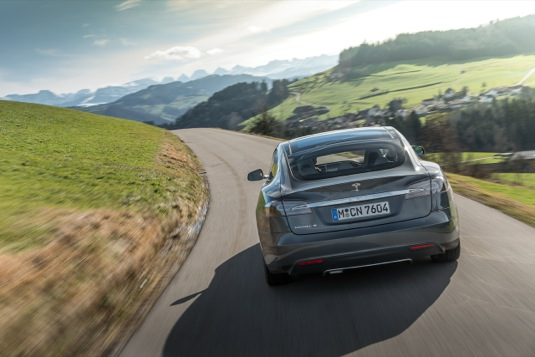car: (257, 124, 467, 277)
